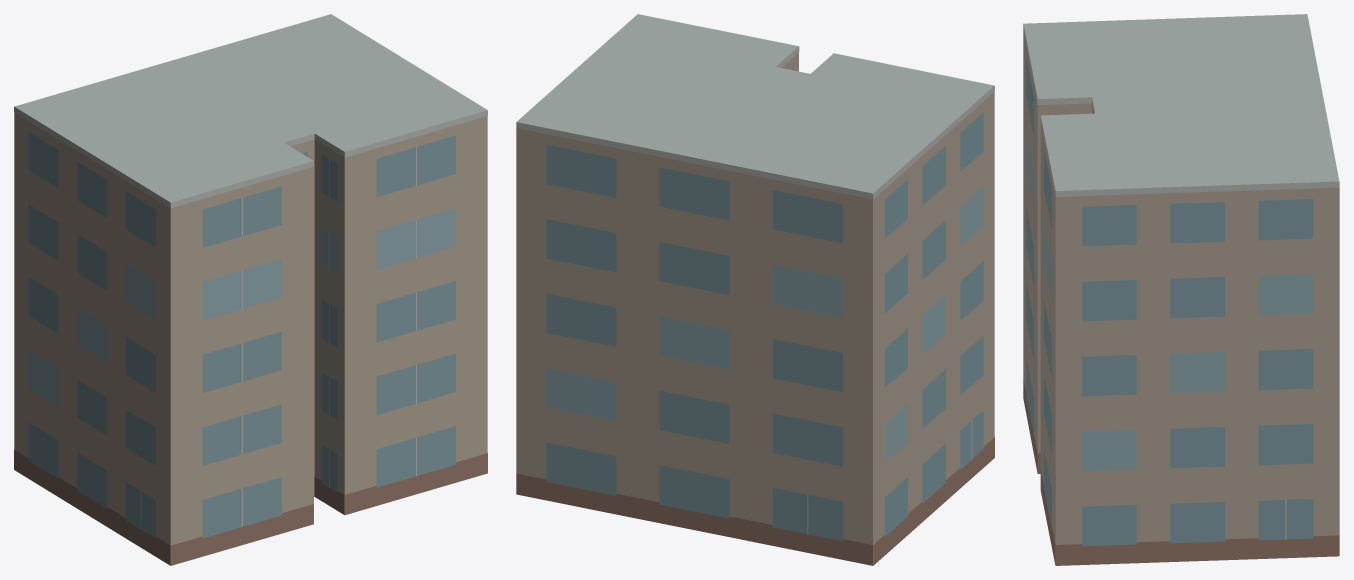
The model's file is survey-upis-32555864.glb.
3 renders of one model, left to right at view 1: azimuth 30°, elevation 25°; view 2: azimuth 150°, elevation 25°; view 3: azimuth 270°, elevation 25°, orthographic. The views are drawn at different scales.
Parts seen in each view (by area): view 1: survey-upis-32555864.tmp; view 2: survey-upis-32555864.tmp; view 3: survey-upis-32555864.tmp.
Part boxes in pixels (<box>): survey-upis-32555864.tmp: <box>14,14,487,565</box>; survey-upis-32555864.tmp: <box>516,14,994,565</box>; survey-upis-32555864.tmp: <box>1023,14,1339,565</box>.
Size of the model in its own units: 15.46 by 15.25 by 11.66.
